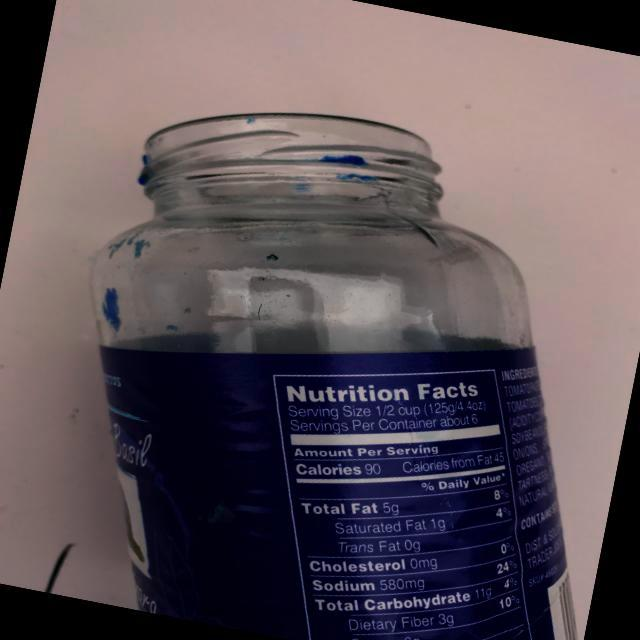glass: (11, 53, 640, 640)
